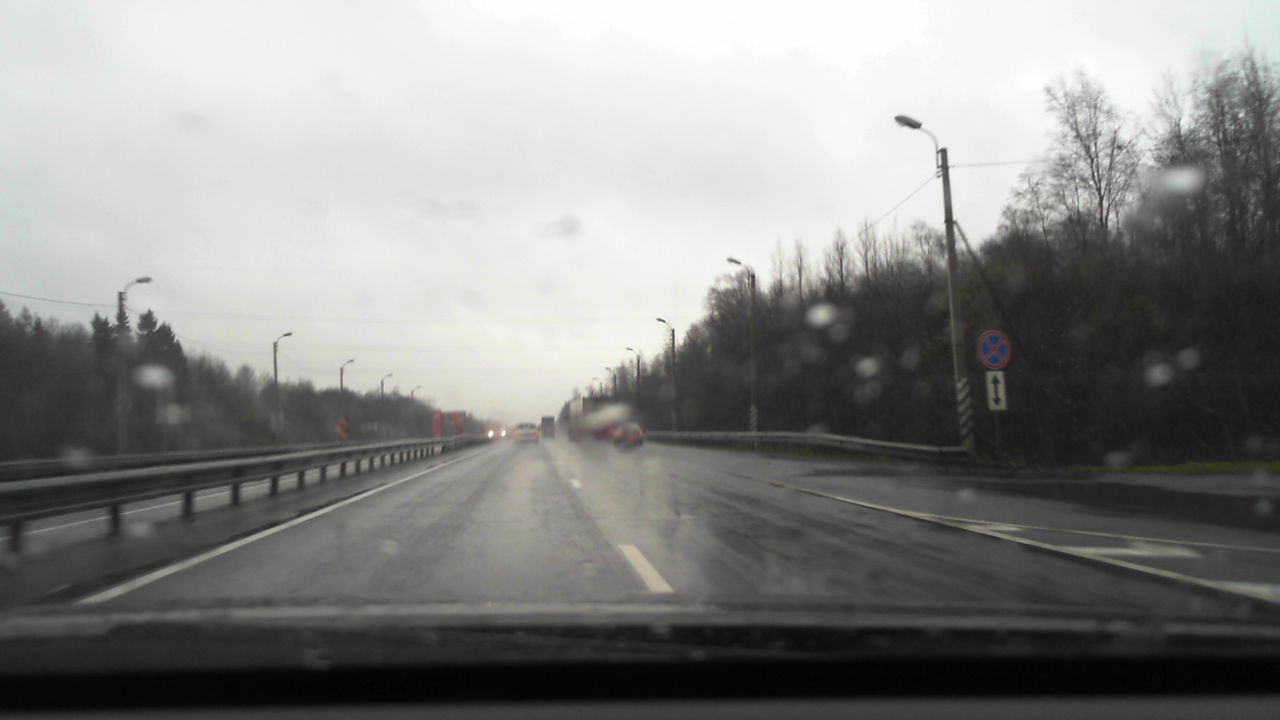No Parking: (976, 328, 1010, 369)
